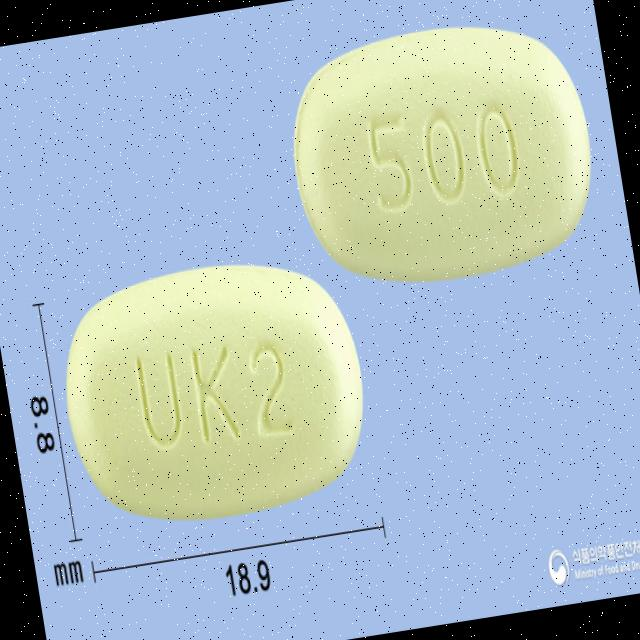Clazin: (46, 242, 382, 542), (277, 7, 607, 300)
